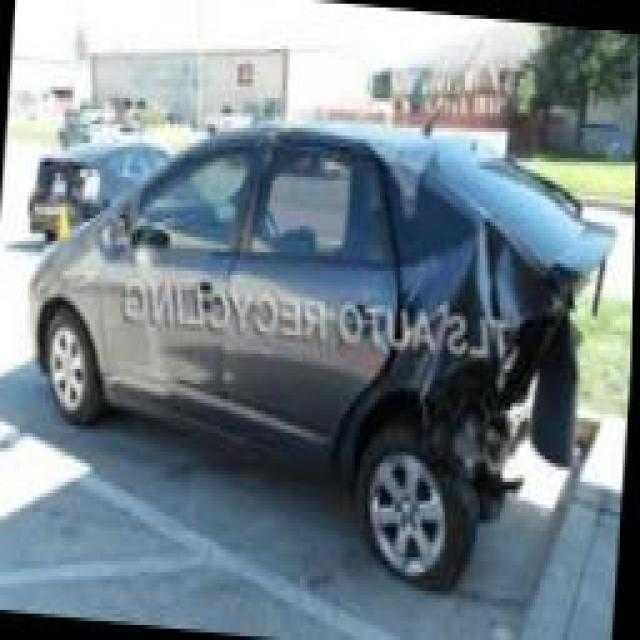Bumper: (452, 333, 586, 499)
Dickey: (541, 204, 612, 391)
Fender: (338, 160, 555, 475)
